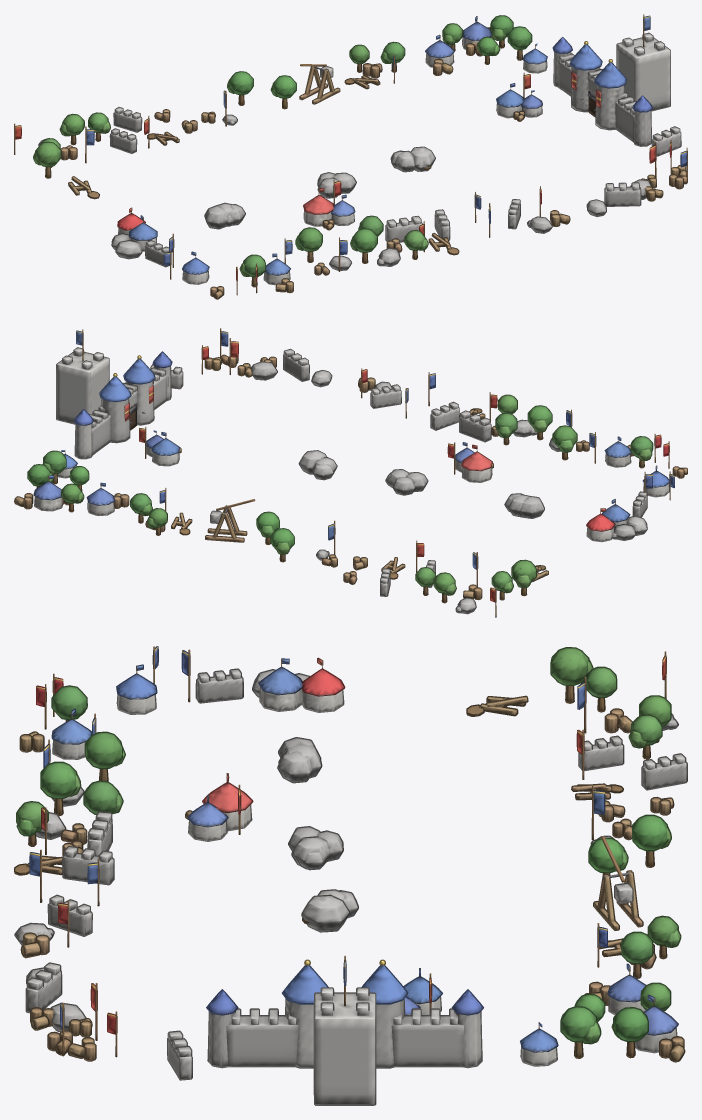
Rendered from castle_siege.glb.
3 views of the same model, one above another, from view 1: azimuth 30°, elevation 25°; view 2: azimuth 150°, elevation 25°; view 3: azimuth 270°, elevation 25° (orthographic). The views are drawn at different scales.
Visible parts, largest first — view 1: Baked_matte, Baked_matte_Outline; view 2: Baked_matte, Baked_matte_Outline; view 3: Baked_matte, Baked_matte_Outline.
Part boxes in pixels (x1,y1,x2,y2): Baked_matte: (14, 14, 687, 298); Baked_matte_Outline: (15, 15, 687, 299); Baked_matte: (15, 328, 687, 617); Baked_matte_Outline: (14, 330, 687, 614); Baked_matte: (15, 646, 686, 1104); Baked_matte_Outline: (14, 646, 687, 1105).
Bounding box in the file's own units: 40.21 × 6.45 × 26.89.
